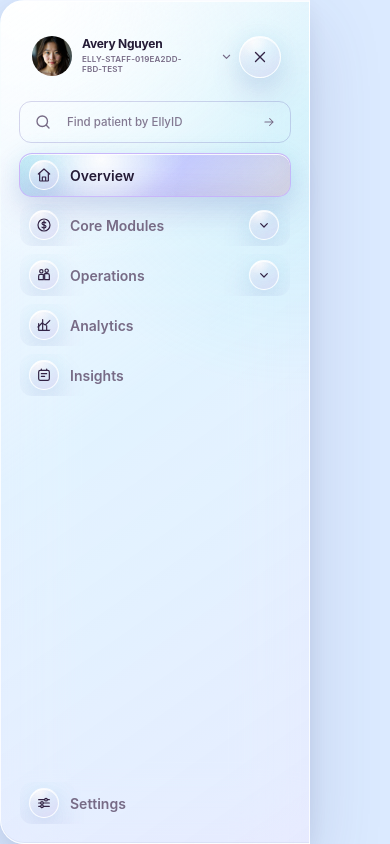
Test: LeftRail › uses the same account action in the mobile navigation drawer
Click the button named "Open account menu" at (226, 56), box [215,44,238,68]
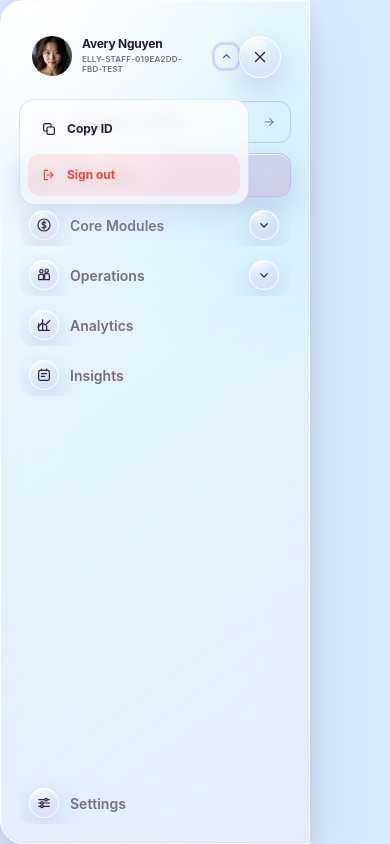
expect the button named "Close navigation" is enabled: met, box [239,36,281,78]
expect the menu item "Sign out" is enabled: met, box [28,154,240,196]
